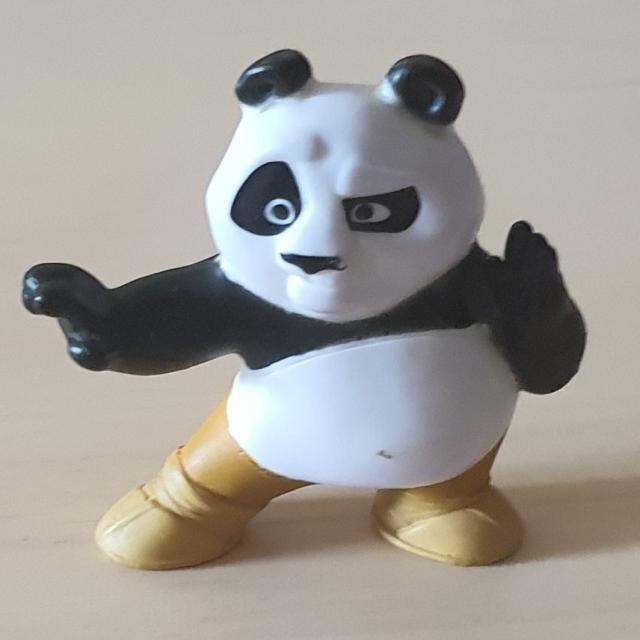Panda: (21, 47, 588, 571)
